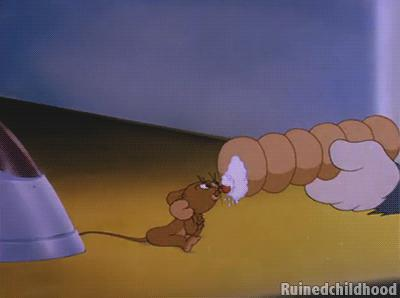jerry: (77, 173, 232, 253)
